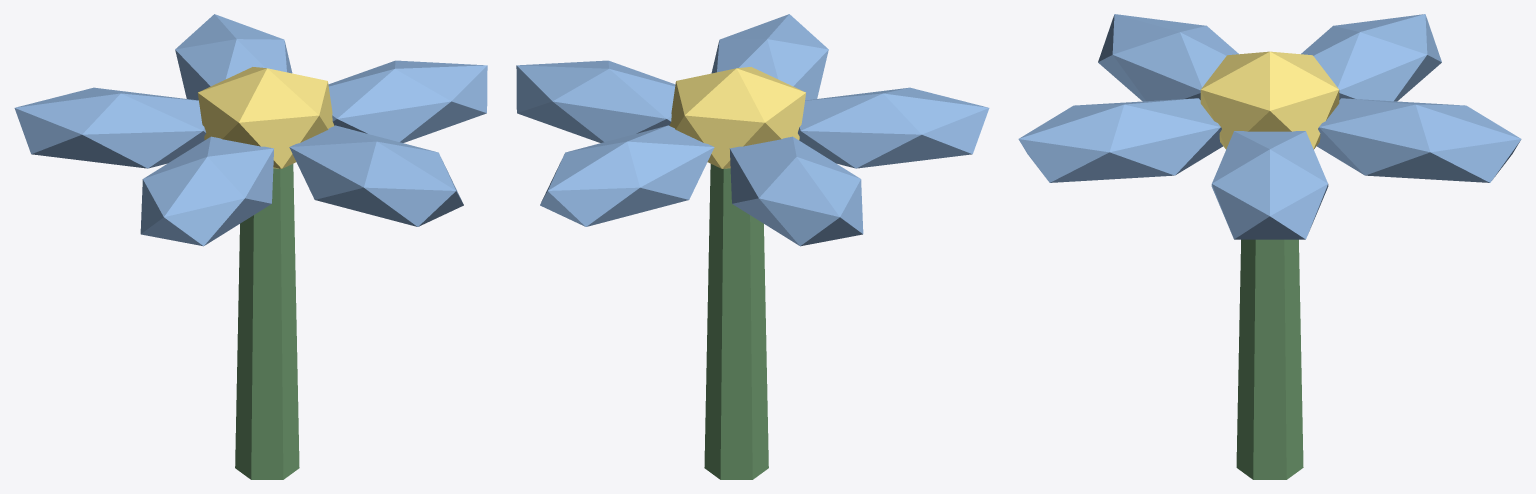
Rendered from flowersVisual.glb.
3 renders of one model, left to right at view 1: azimuth 30°, elevation 25°; view 2: azimuth 150°, elevation 25°; view 3: azimuth 270°, elevation 25°, orthographic. The views are drawn at different scales.
Visible parts, largest first — view 1: projects; view 2: projects; view 3: projects.
Boxes of the visible parts, x1,y1,x2,y2 form: projects: (14, 14, 487, 479); projects: (516, 14, 989, 479); projects: (1018, 14, 1521, 479).
Bounding box in the file's own units: 0.5039 × 0.4795 × 0.5255.
